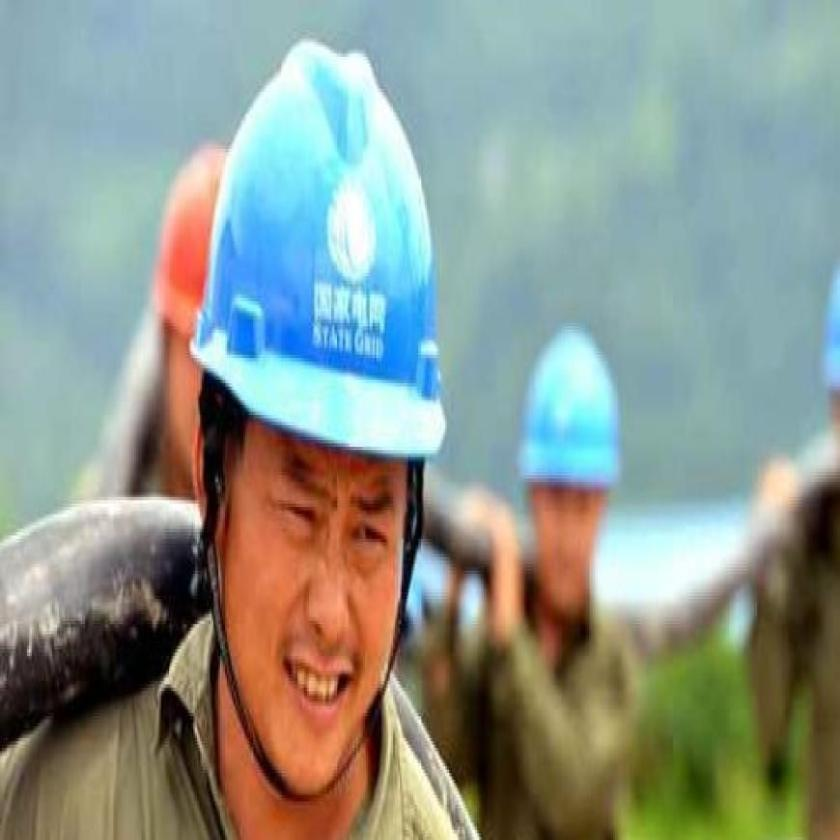Con_casco: (199, 40, 452, 786), (515, 313, 628, 650), (154, 140, 234, 474)
